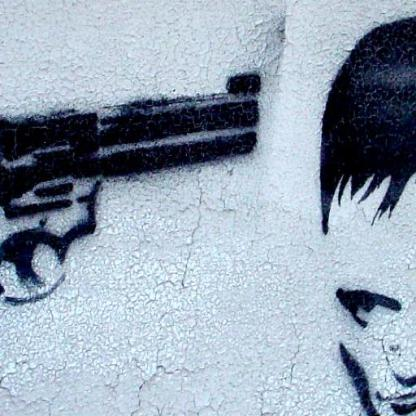gun: (0, 67, 262, 415)
